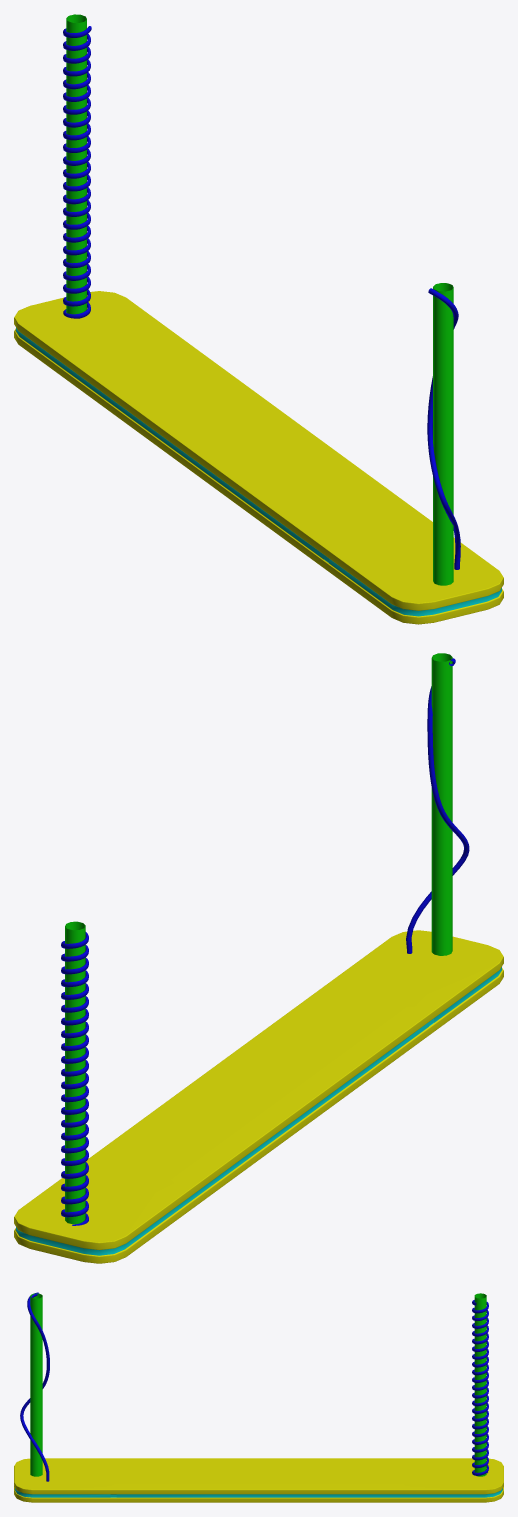
Rendered from Armoury_Light_Strip.fbx.
3 renders of one model, top to bottom at view 1: azimuth 30°, elevation 25°; view 2: azimuth 150°, elevation 25°; view 3: azimuth 270°, elevation 25°, orthographic. The views are drawn at different scales.
Visible parts, largest first — view 1: Armoury_LightStrip; view 2: Armoury_LightStrip; view 3: Armoury_LightStrip.
Boxes of the visible parts, x1,y1,x2,y2 form: Armoury_LightStrip: (14,14,503,624); Armoury_LightStrip: (14,653,503,1263); Armoury_LightStrip: (14,1292,503,1502).
Bounding box in the file's own units: 15.42 × 43.03 × 99.88.
